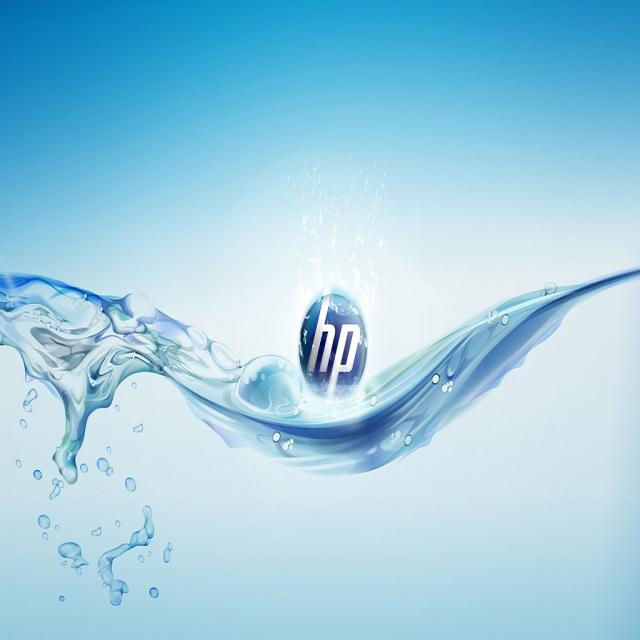HP: (294, 288, 372, 407)
